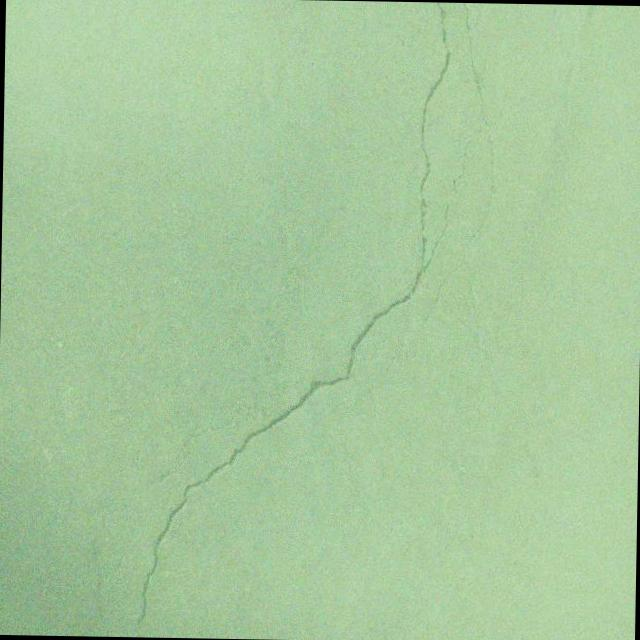crack: (133, 0, 527, 639), (94, 492, 134, 637), (154, 421, 230, 486)
